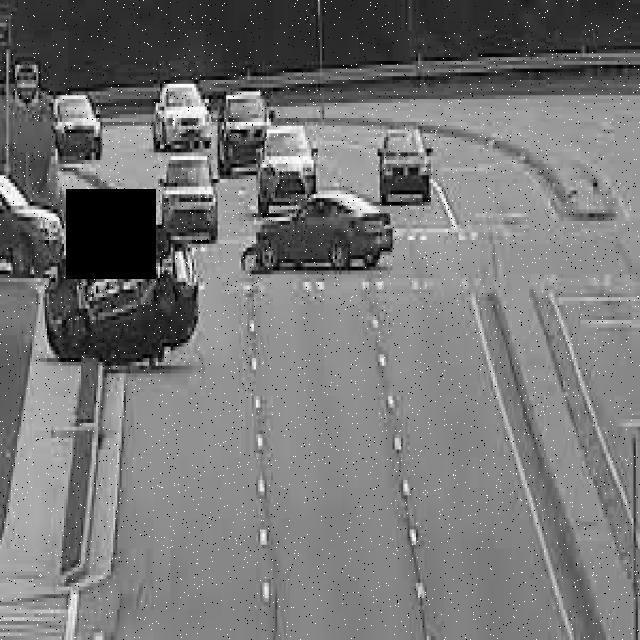accident: (39, 229, 204, 370)
vehicle: (252, 191, 394, 271), (1, 170, 65, 277), (217, 92, 276, 178), (161, 155, 220, 241), (258, 128, 318, 212), (377, 129, 436, 205), (152, 83, 212, 147), (53, 94, 103, 160)
